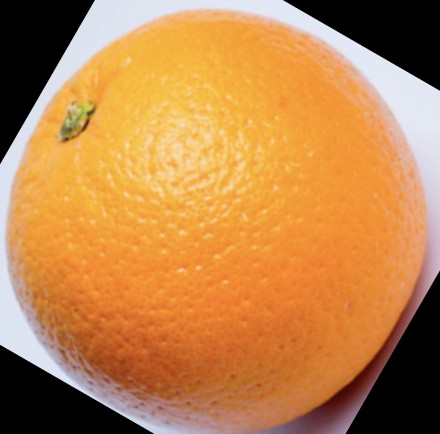fresh_orange: (9, 9, 426, 434)
